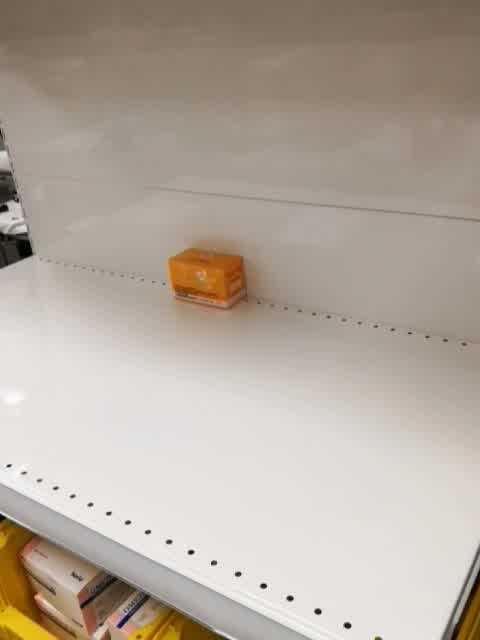jasminetea: (167, 246, 249, 311)
